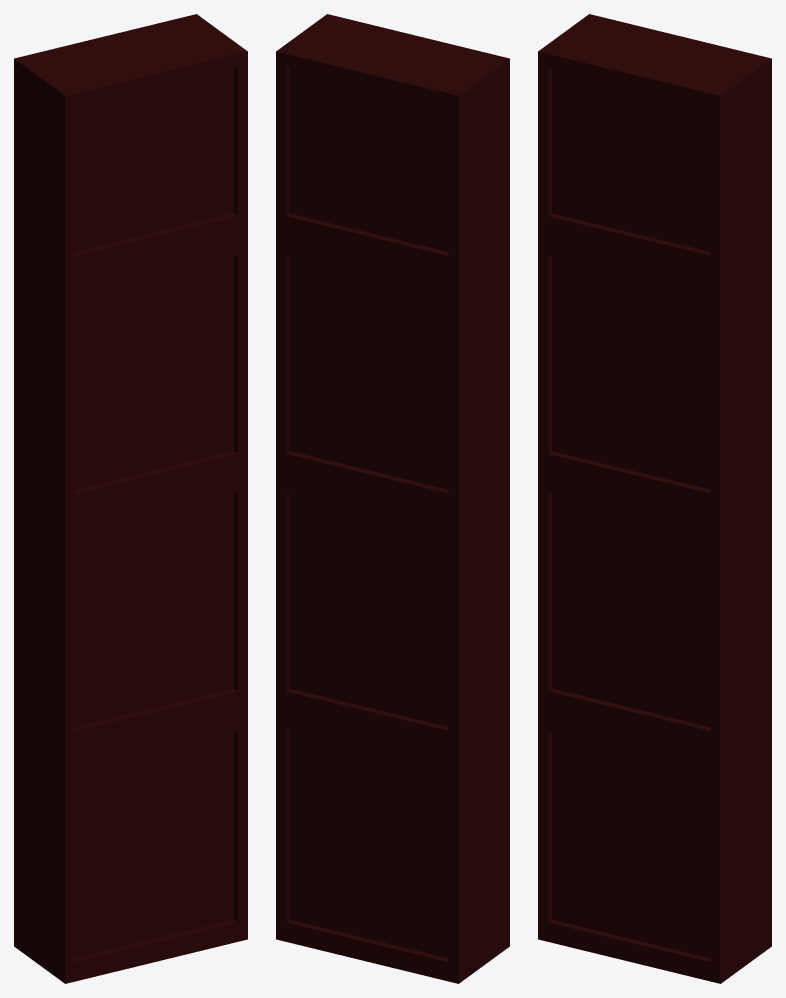
The model's file is Industry_Pillar2_low.fbx.
The picture shows the model from 3 angles, left to right: view 1: azimuth 30°, elevation 25°; view 2: azimuth 150°, elevation 25°; view 3: azimuth 330°, elevation 25°; orthographic projection.
Parts seen in each view (by area): view 1: Industry_Pillar2_low; view 2: Industry_Pillar2_low; view 3: Industry_Pillar2_low.
Boxes of the visible parts, x1,y1,x2,y2 form: Industry_Pillar2_low: [14, 14, 247, 983]; Industry_Pillar2_low: [276, 14, 509, 983]; Industry_Pillar2_low: [538, 14, 771, 983].
Size of the model in its own units: 126 by 585 by 61.24.
